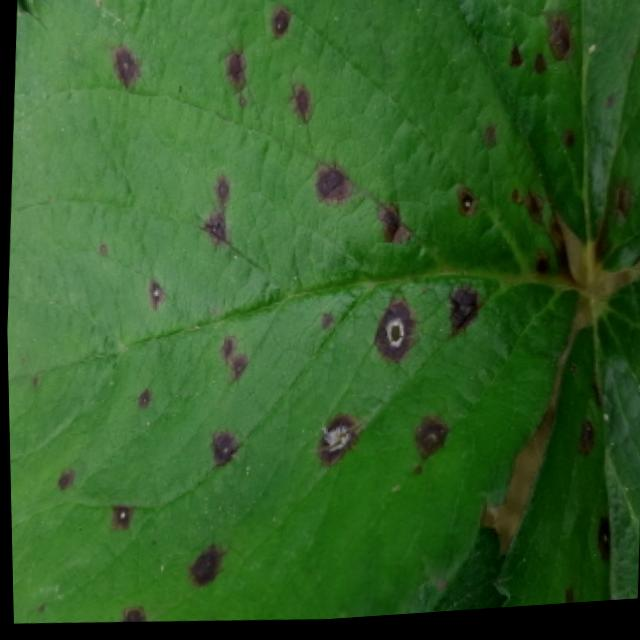Leaf Spot: (5, 0, 579, 624), (447, 0, 640, 281), (490, 277, 640, 615), (396, 533, 503, 620)
